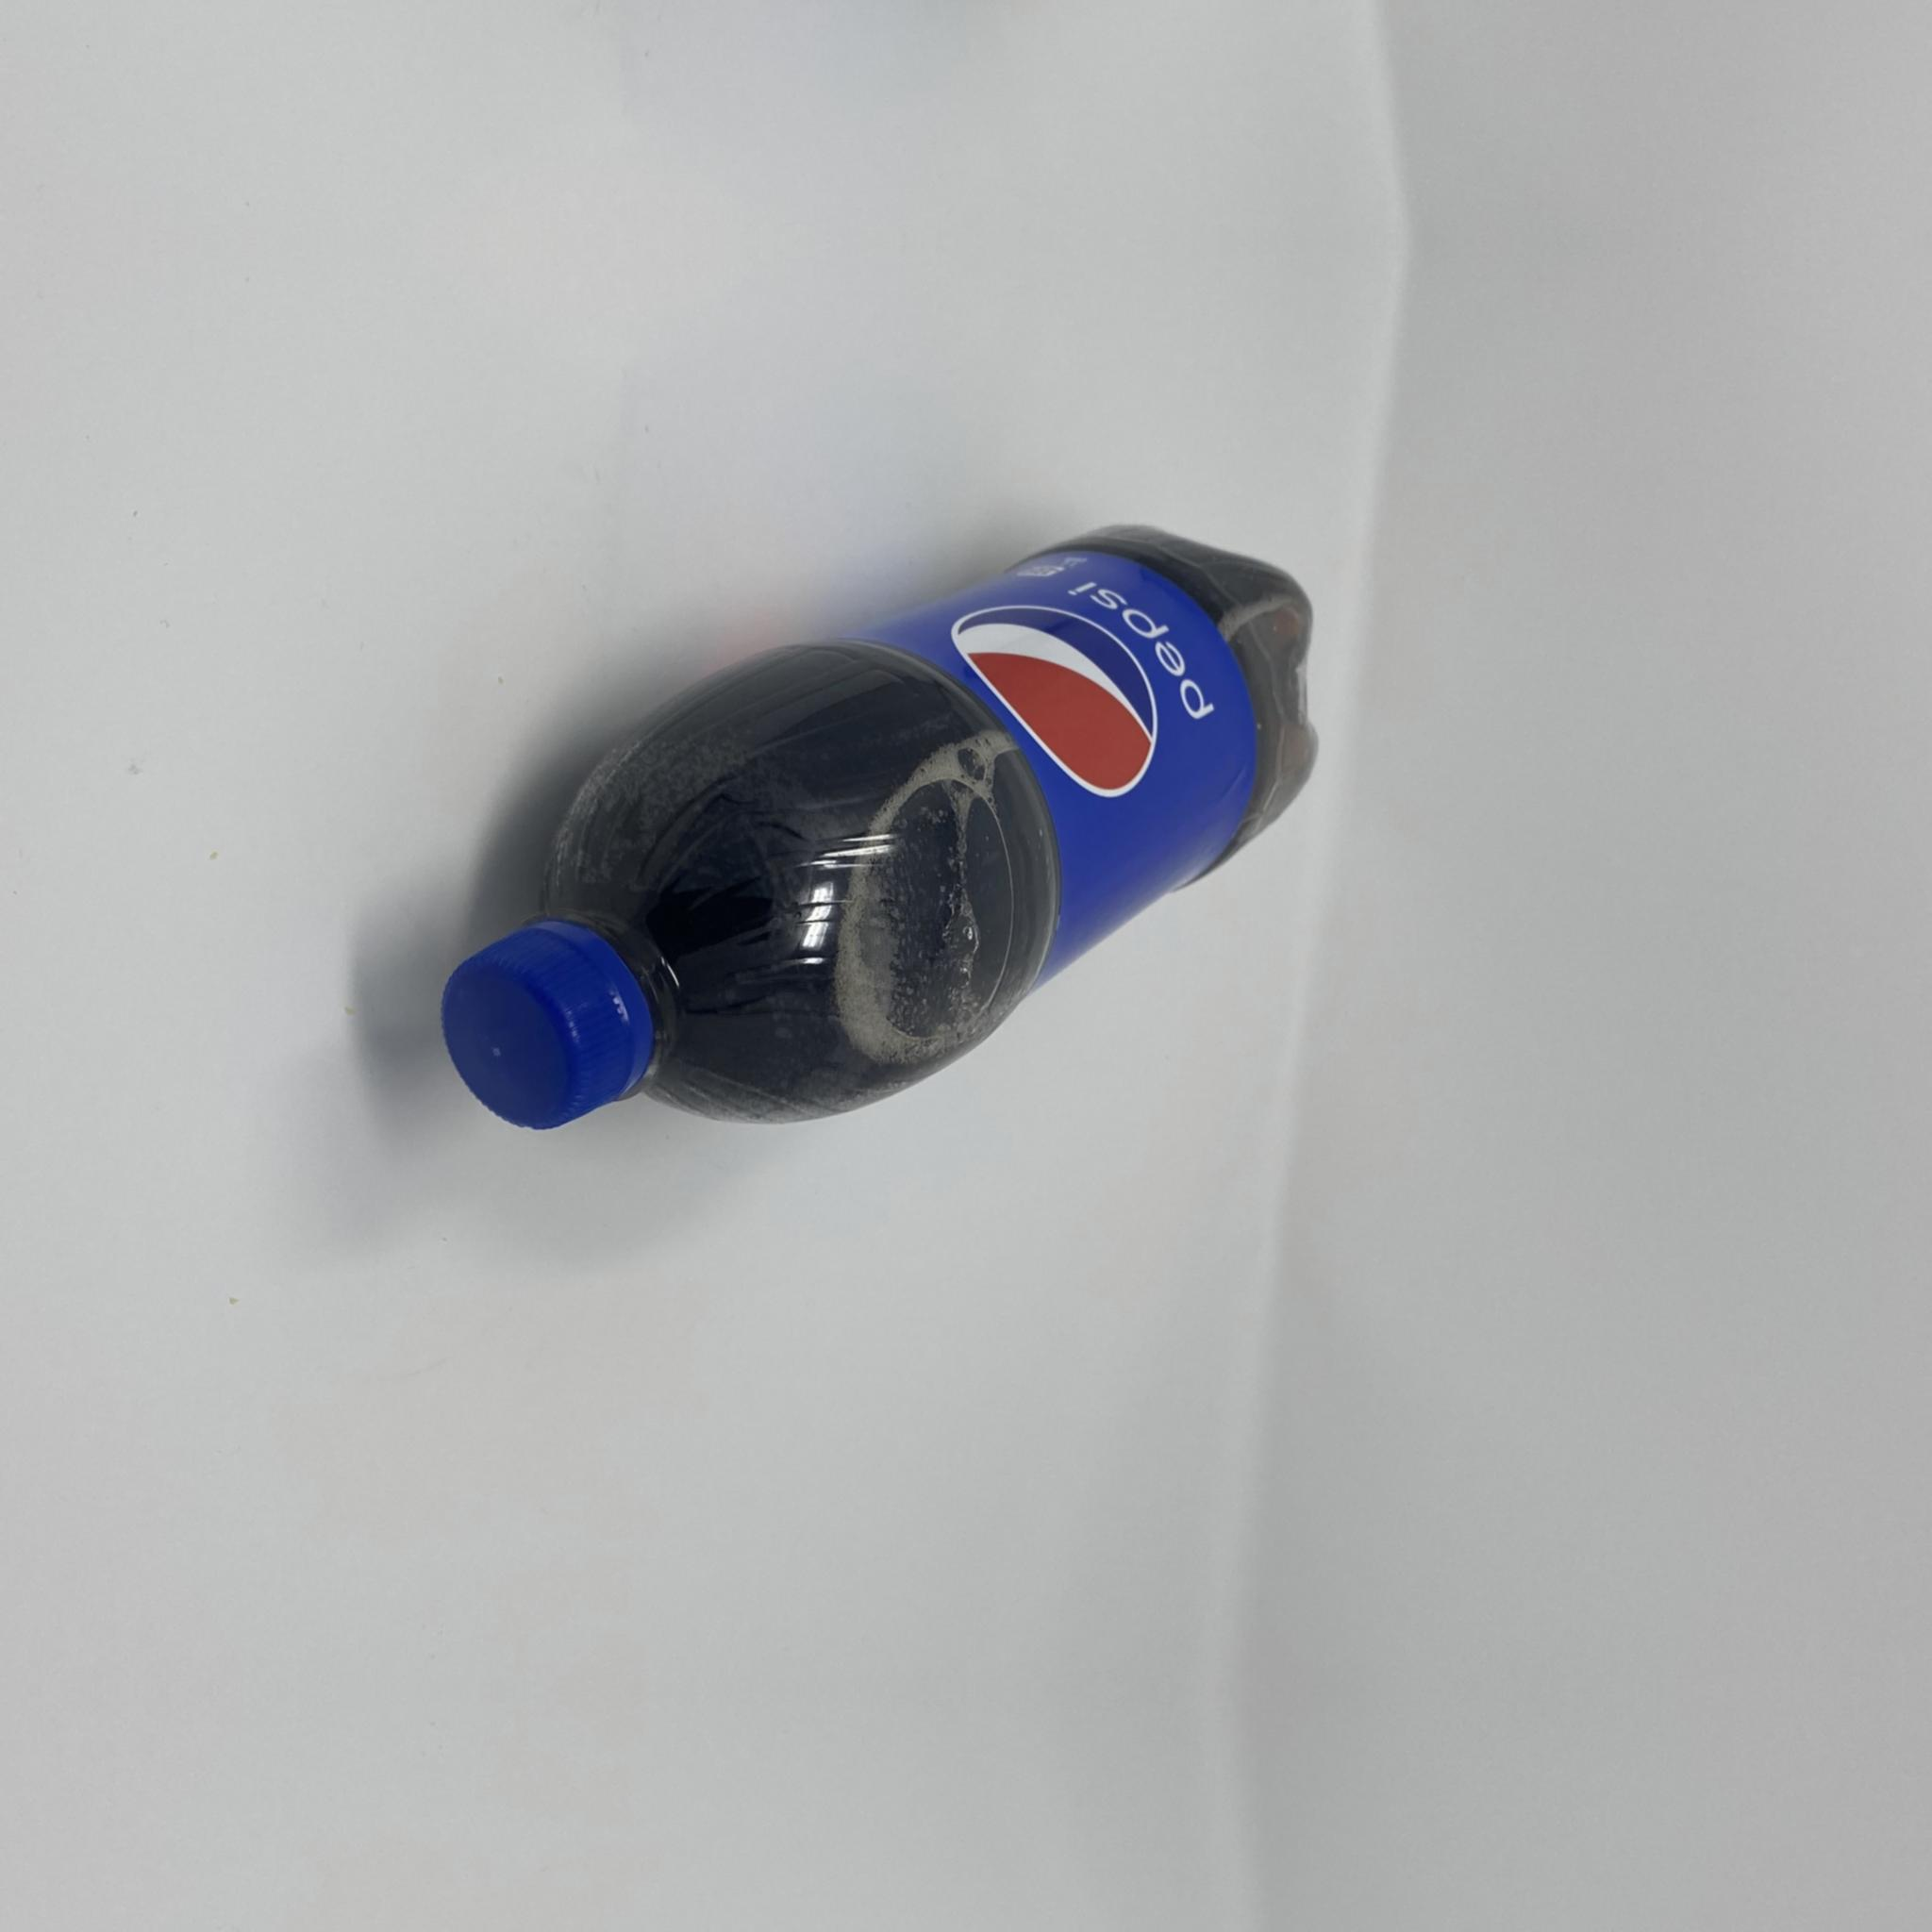PET: (439, 518, 1313, 1127)
pepsi: (439, 518, 1313, 1127)
plastic: (439, 518, 1313, 1127)
soft-drink: (439, 518, 1313, 1127)
